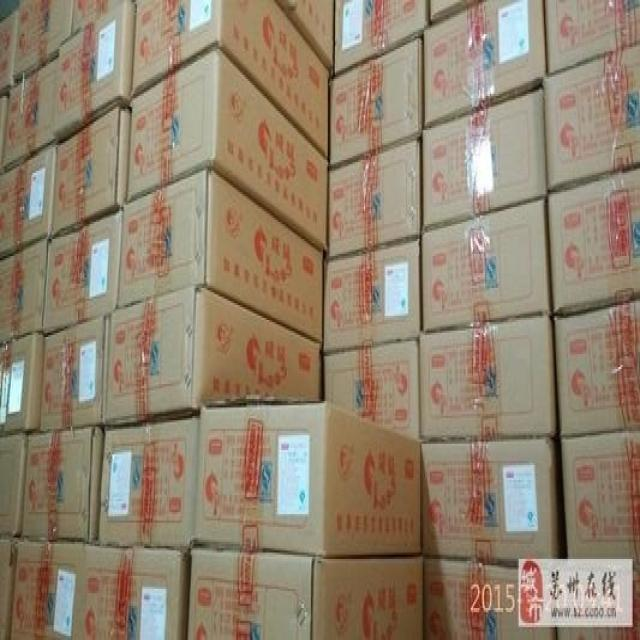box: (126, 49, 329, 252), (116, 166, 327, 346), (191, 399, 421, 559), (102, 286, 323, 427), (133, 0, 329, 156), (185, 550, 423, 638), (421, 435, 566, 565), (421, 85, 549, 228), (11, 540, 192, 640), (420, 198, 552, 333), (420, 314, 558, 442), (421, 0, 548, 128), (543, 41, 640, 192), (97, 410, 199, 550), (549, 164, 640, 314), (328, 32, 421, 169), (552, 297, 639, 435), (557, 429, 639, 572), (322, 237, 420, 354), (327, 139, 421, 260), (55, 0, 134, 141), (423, 557, 557, 638), (49, 107, 130, 239), (322, 341, 421, 442), (43, 207, 122, 333), (20, 427, 104, 544), (38, 316, 104, 431), (335, 0, 431, 75), (544, 0, 640, 75), (1, 51, 56, 173), (0, 141, 56, 258), (558, 570, 639, 638), (0, 239, 50, 343), (14, 0, 73, 79), (0, 333, 46, 433), (274, 0, 335, 73), (0, 431, 28, 538), (70, 0, 125, 36), (0, 6, 19, 94), (430, 0, 482, 26), (0, 90, 8, 173)
